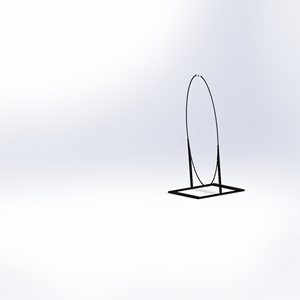circle: (166, 73, 246, 200)
